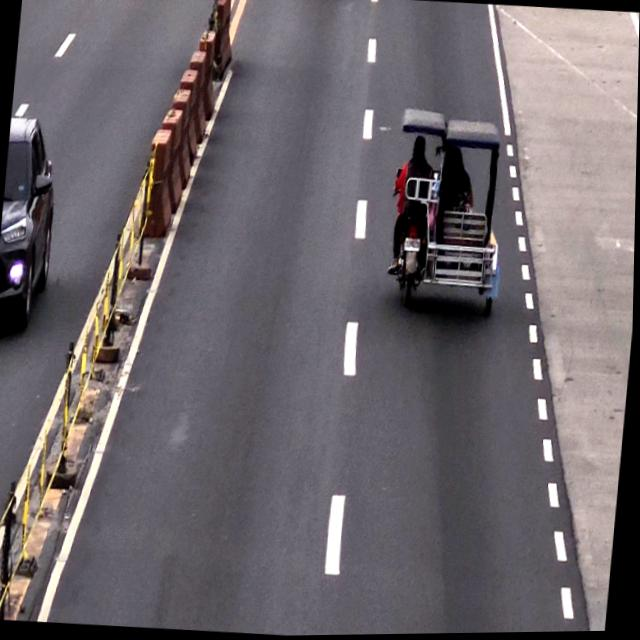License-Plate: (403, 237, 422, 254)
Tricycle: (383, 106, 510, 312)
